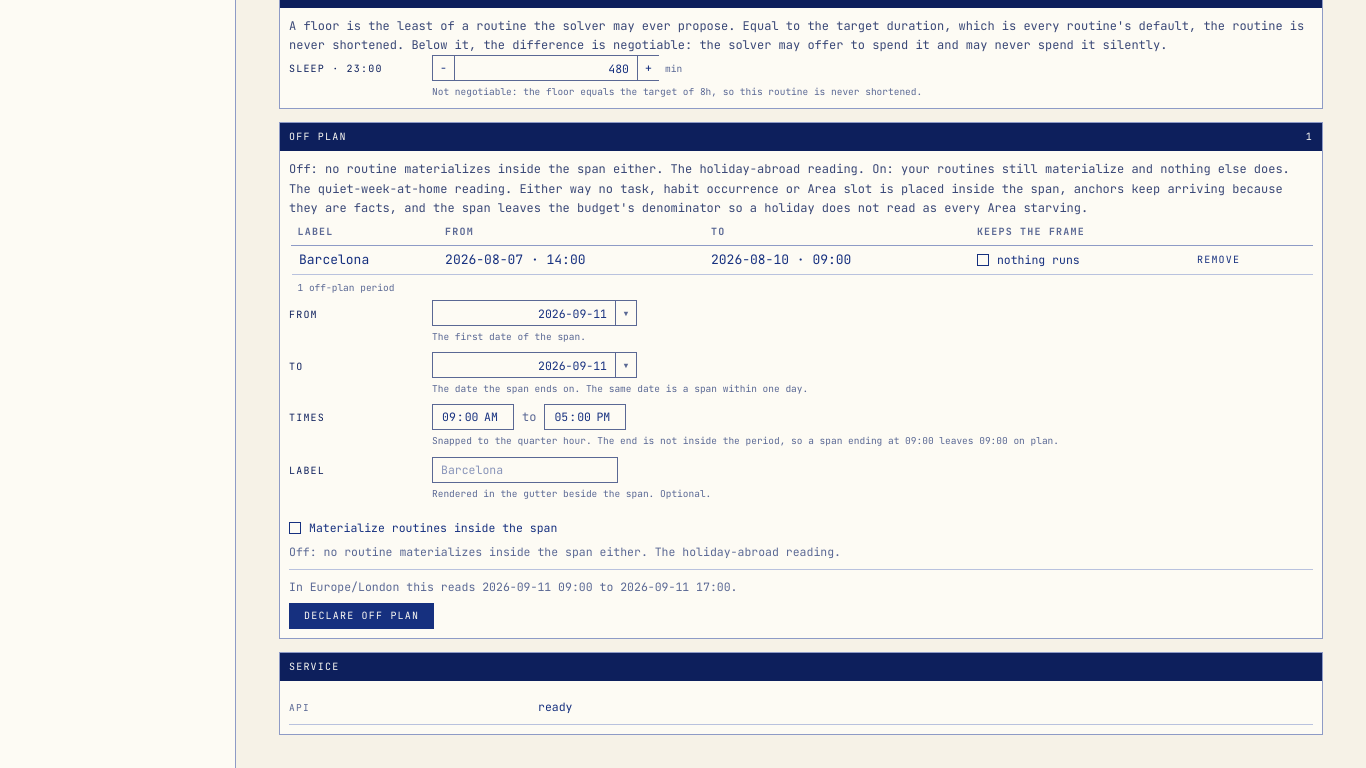
it: the off-plan panel › renders the 409 on an overlapping span with its stated reason
(page scrolled)
Click the button "Declare off plan" at (362, 616), box [289, 603, 434, 629]
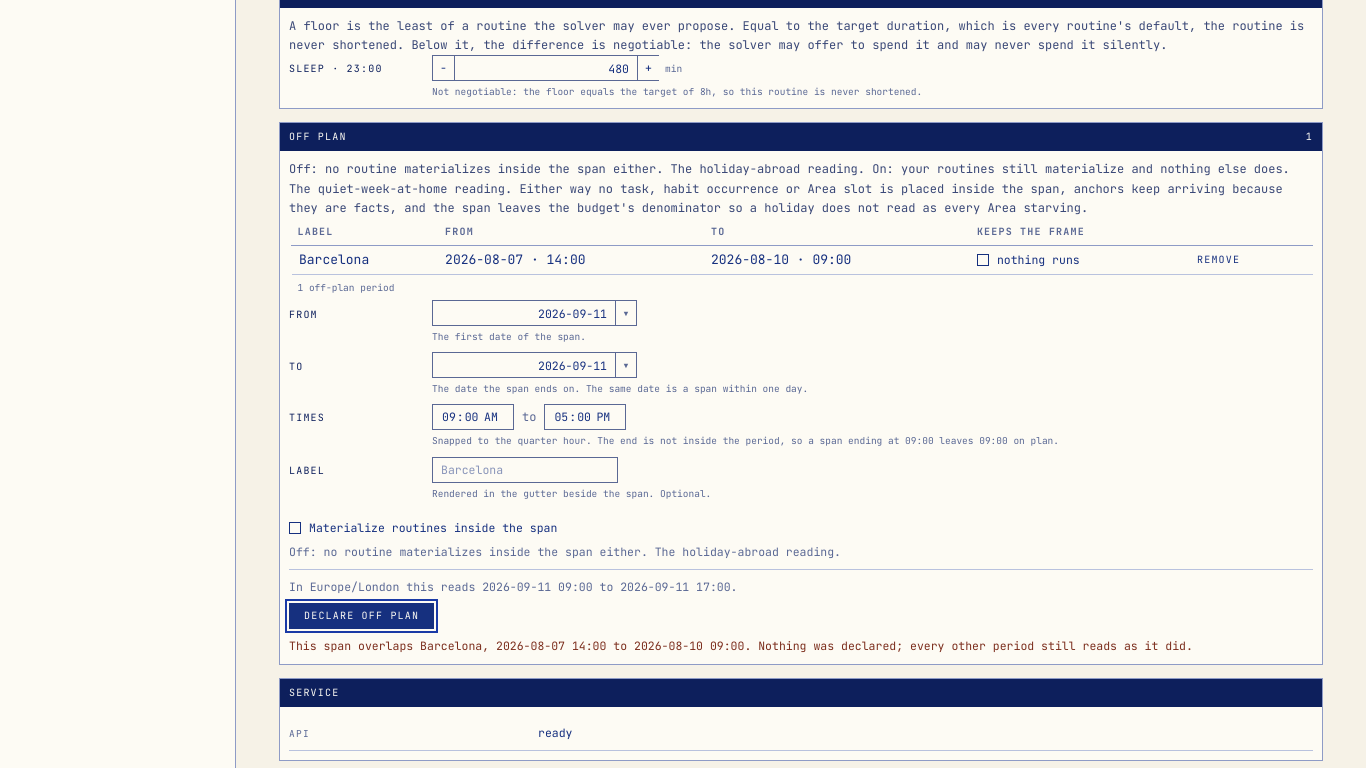
expect the text "overlaps Barcelona" is shown: met, box [289, 638, 1193, 653]
